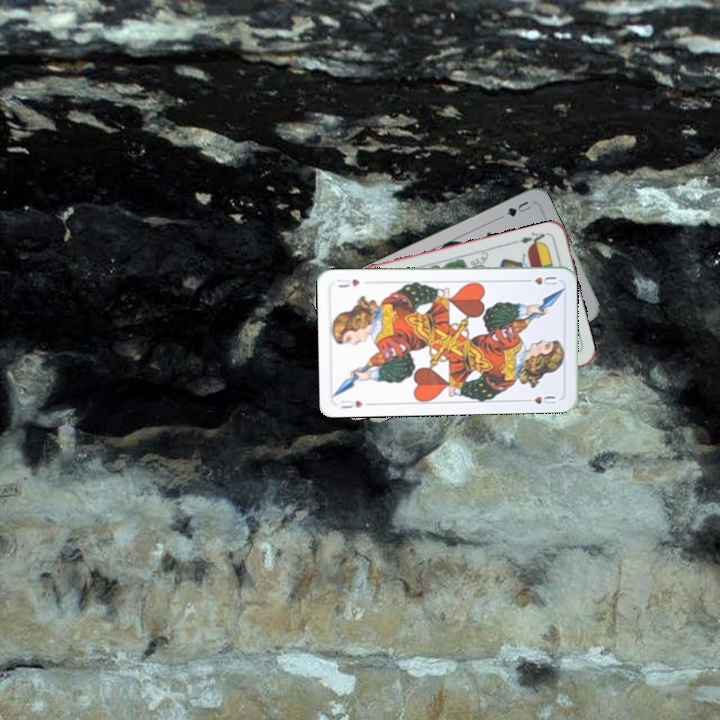EA: (516, 228, 551, 249)
GU: (502, 197, 534, 219)
HU: (520, 273, 559, 287), (337, 396, 365, 411)
